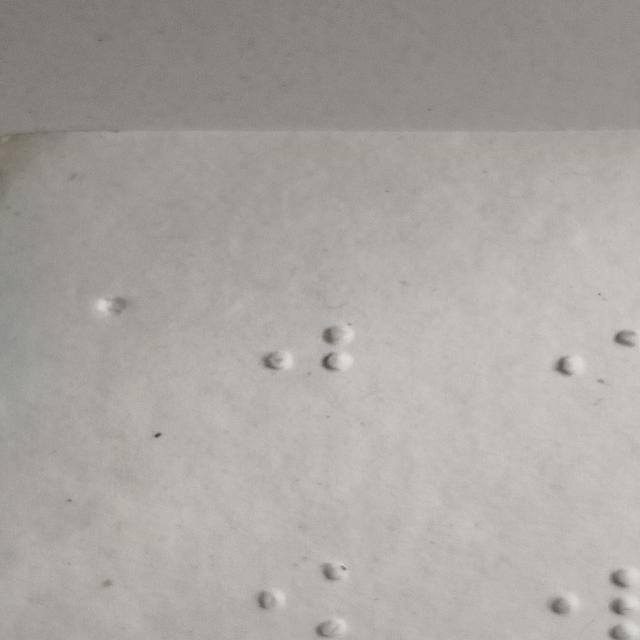binata: (324, 324, 391, 403)
dot_5: (224, 325, 291, 405), (220, 561, 287, 640)
kailangan: (320, 561, 387, 640)
